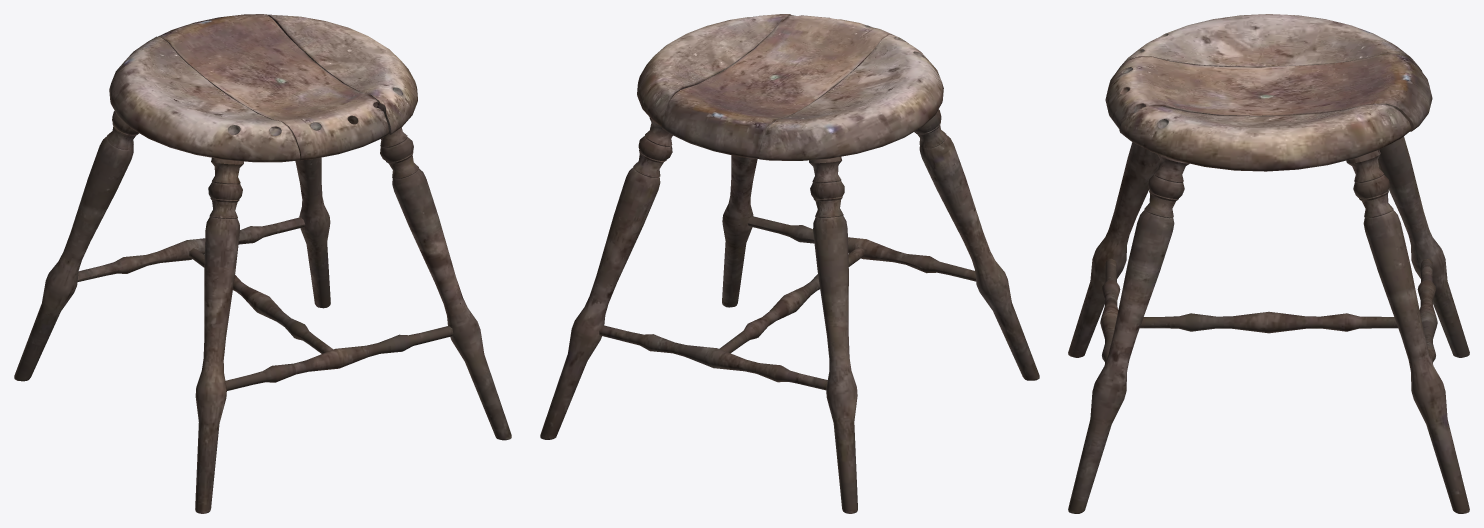
The model's file is wooden_stool_01.glb.
3 views of the same model, side by side, from view 1: azimuth 30°, elevation 25°; view 2: azimuth 150°, elevation 25°; view 3: azimuth 270°, elevation 25° (orthographic). The views are drawn at different scales.
Parts seen in each view (by area): view 1: wooden_stool_01; view 2: wooden_stool_01; view 3: wooden_stool_01.
Part boxes in pixels (x1,y1,x2,y2): wooden_stool_01: (14,14,511,513); wooden_stool_01: (540,14,1039,513); wooden_stool_01: (1068,14,1469,513).
Size of the model in its own units: 0.4251 by 0.4374 by 0.4422.
1 material, 1 textured.
